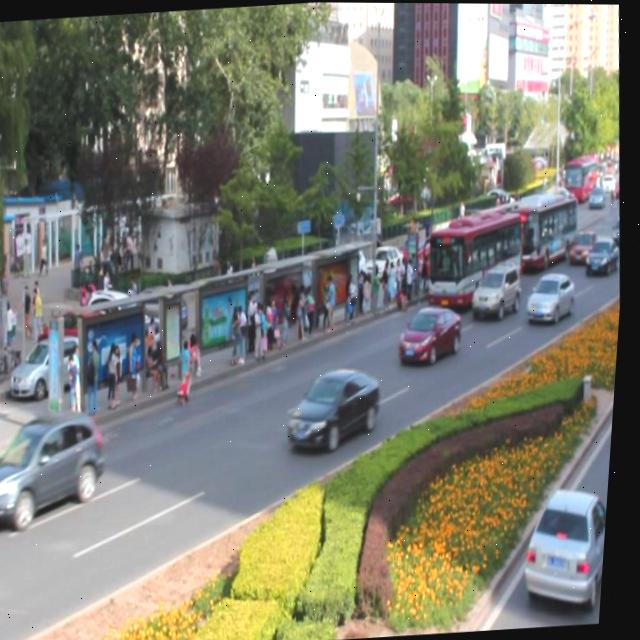car: (0, 405, 117, 525), (288, 363, 389, 449), (398, 300, 466, 364), (470, 258, 526, 316), (526, 269, 579, 322), (585, 234, 622, 274), (567, 227, 601, 263)
van: (420, 202, 527, 307), (502, 182, 582, 270)
